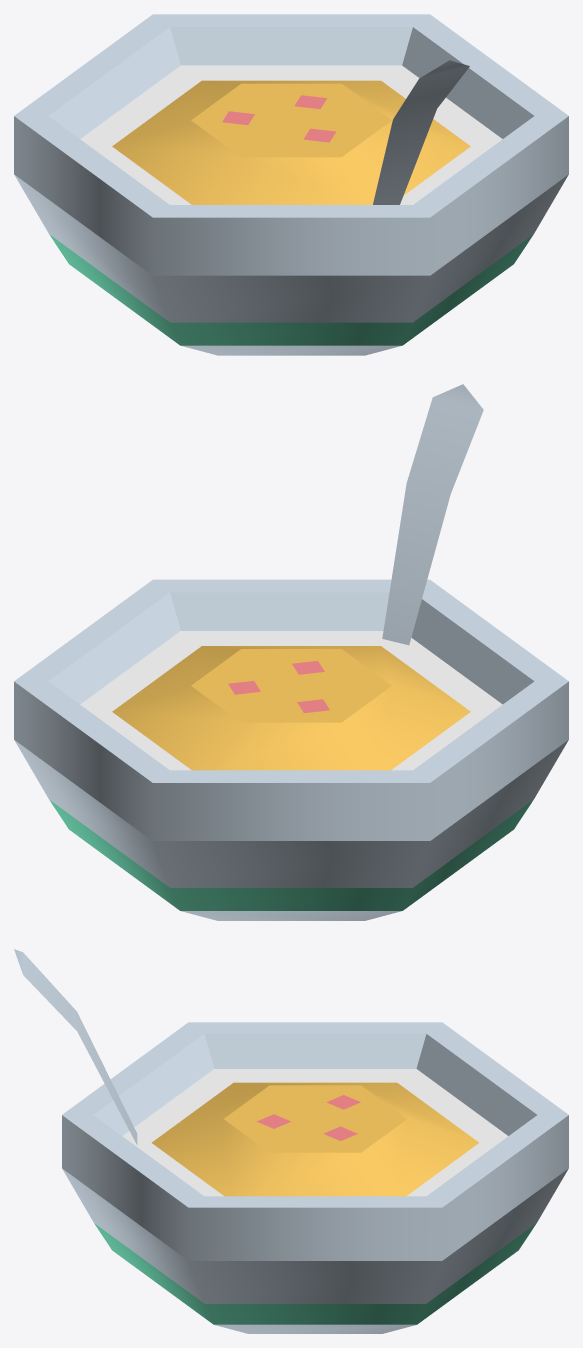
The model's file is bowlCereal.GLB.
3 views of the same model, one above another, from view 1: azimuth 30°, elevation 25°; view 2: azimuth 150°, elevation 25°; view 3: azimuth 270°, elevation 25° (orthographic). The views are drawn at different scales.
Visible parts, largest first — view 1: bowlCereal; view 2: bowlCereal; view 3: bowlCereal.
Boxes of the visible parts, bbox=[...] form: bowlCereal: bbox=[14, 14, 568, 355]; bowlCereal: bbox=[14, 384, 568, 920]; bowlCereal: bbox=[14, 949, 568, 1333].
Bounding box in the file's own units: 0.5022 × 0.4193 × 0.6346.
